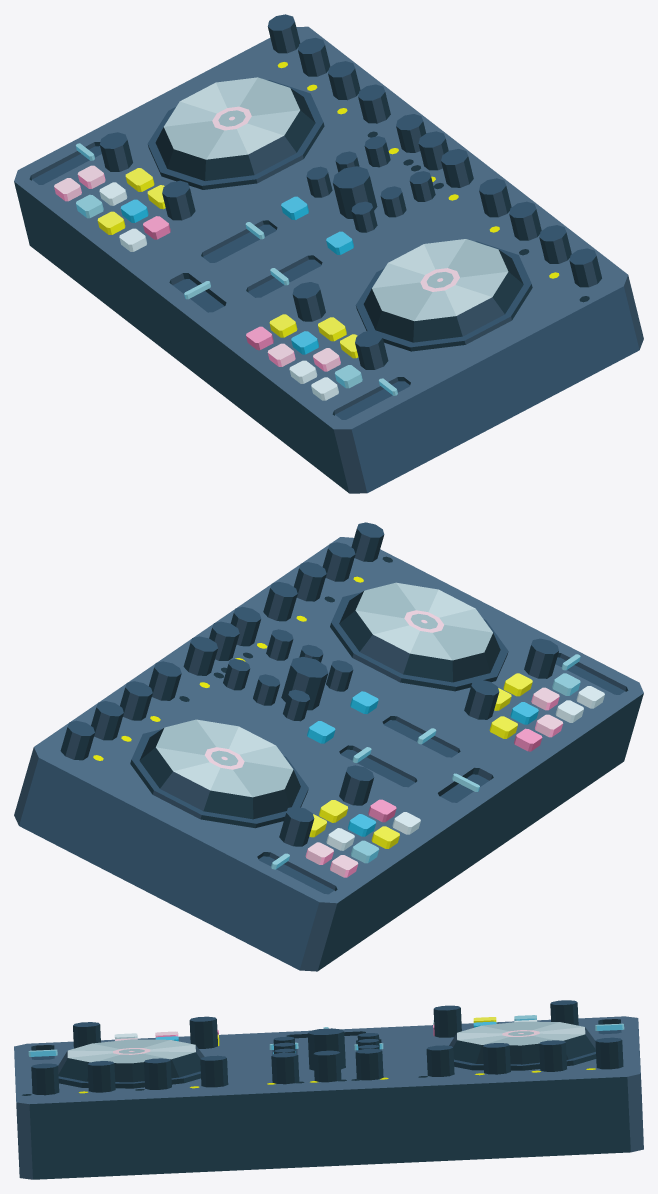
File: turntable.glb
3 renders of one model, top to bottom at view 1: azimuth 30°, elevation 25°; view 2: azimuth 150°, elevation 25°; view 3: azimuth 270°, elevation 25°, orthographic. The views are drawn at different scales.
Visible parts, largest first — view 1: Cube.240; view 2: Cube.240; view 3: Cube.240.
Boxes of the visible parts, x1,y1,x2,y2 form: Cube.240: (14,14,643,493); Cube.240: (14,522,643,971); Cube.240: (14,1000,643,1179).
Bounding box in the file's own units: 317 × 186 × 555.
Materials: 1 (1 with a texture image).
